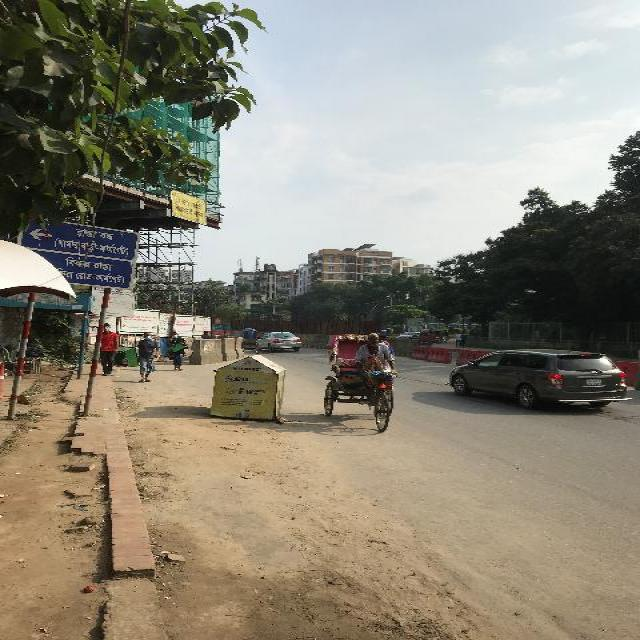vehicle: (446, 352, 633, 413), (322, 333, 397, 434), (260, 332, 302, 353), (241, 329, 260, 353), (418, 332, 430, 347), (398, 332, 417, 339), (436, 331, 444, 344), (430, 331, 436, 345), (387, 329, 395, 336)
